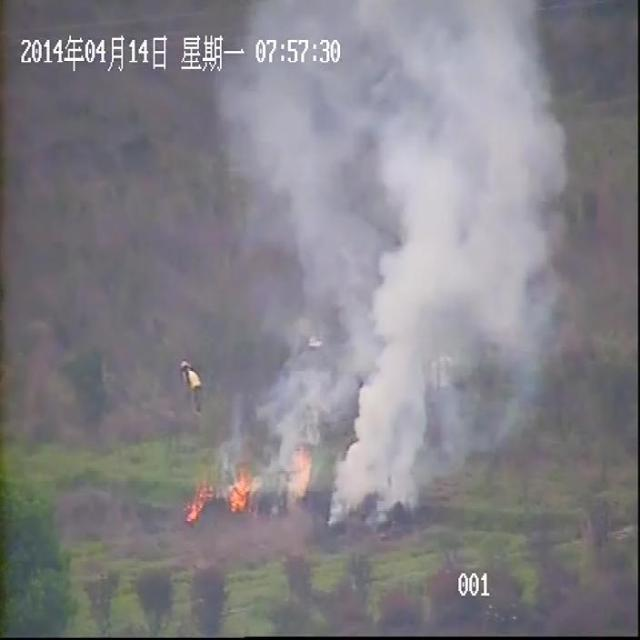fire: (286, 440, 314, 498), (182, 480, 212, 522), (227, 469, 251, 511)
smoke: (215, 2, 568, 526)
